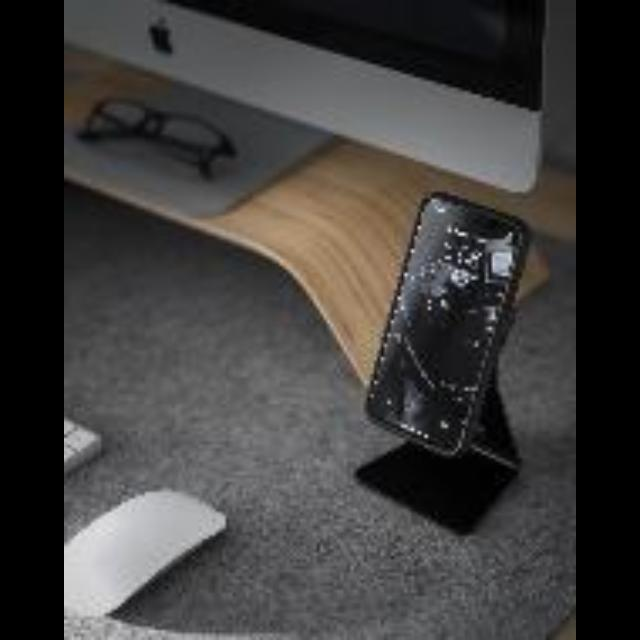phone: (337, 169, 552, 479)
